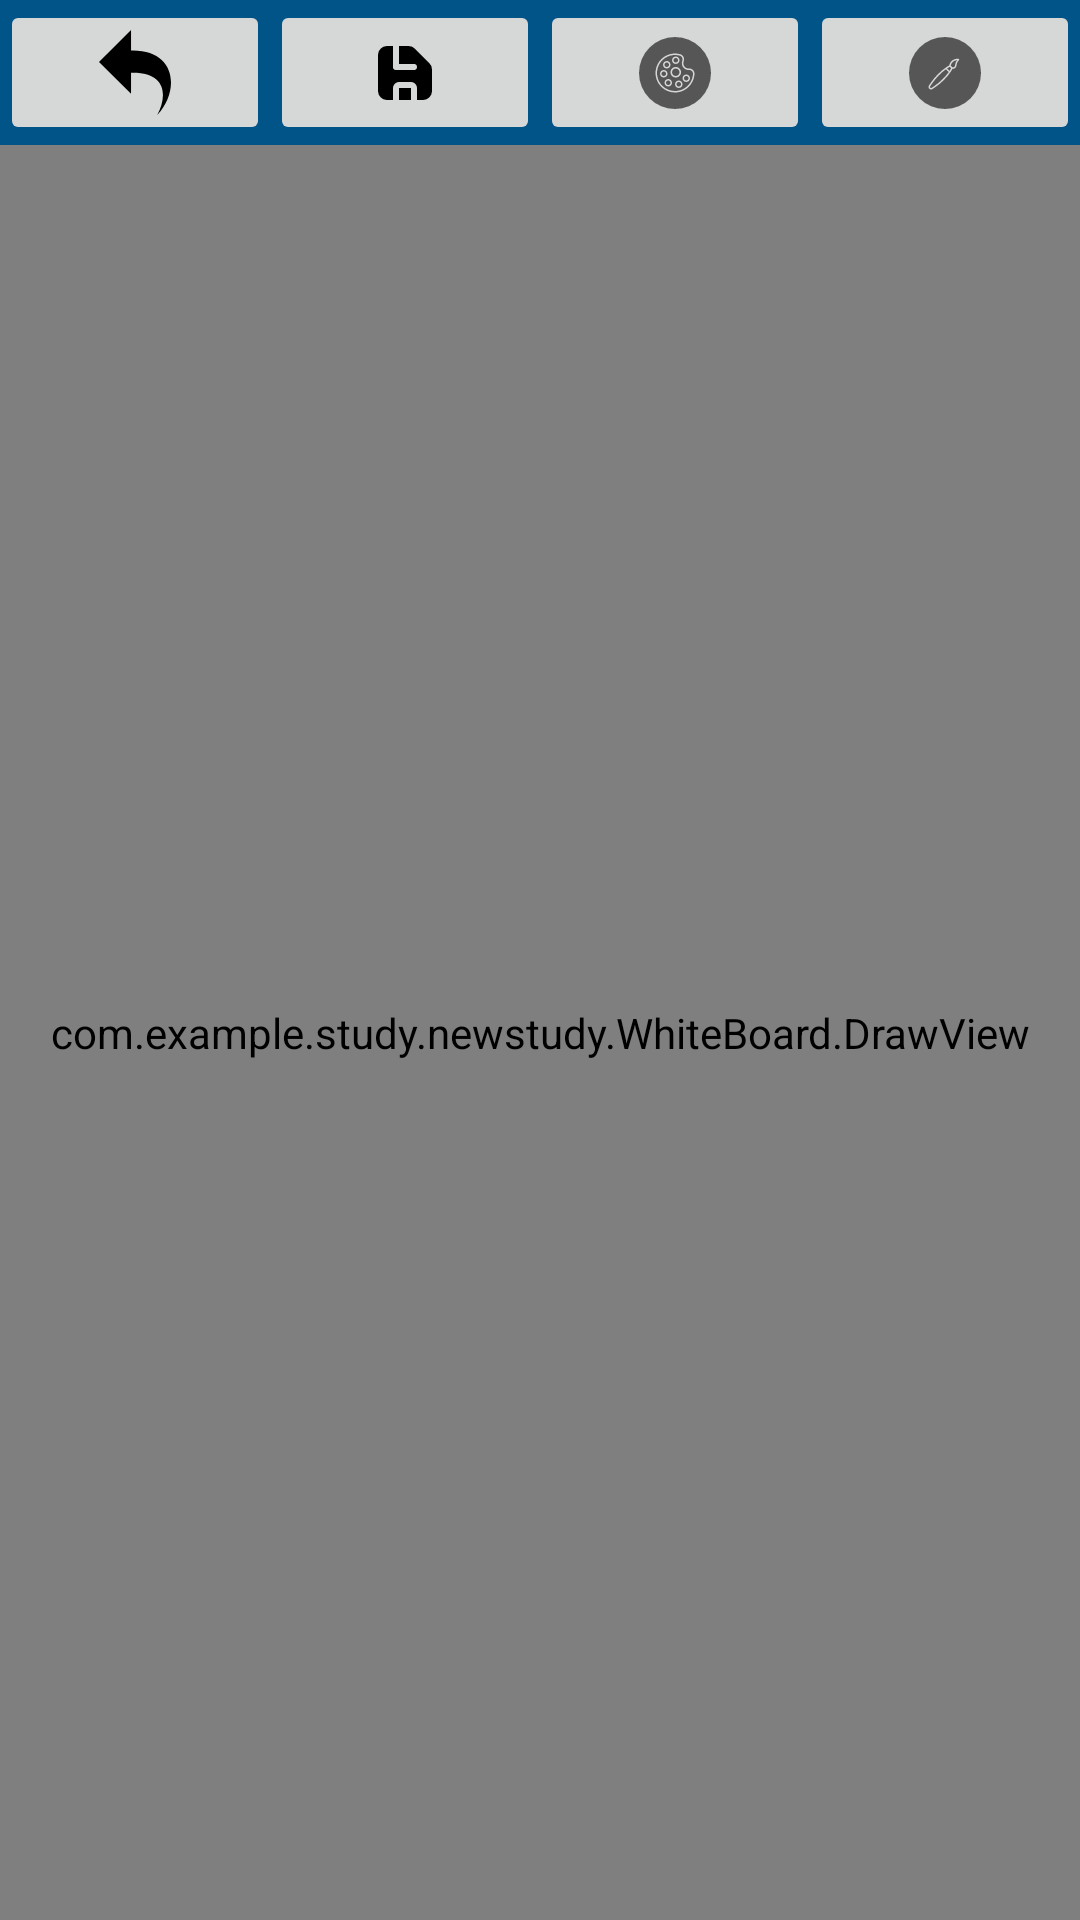

Icons on this 1080 x 1920 Android screen, each with the point to tap as point (x, y):
Color: point (675, 72)
Save: point (405, 72)
Stroke: point (945, 72)
Undo: point (135, 72)
